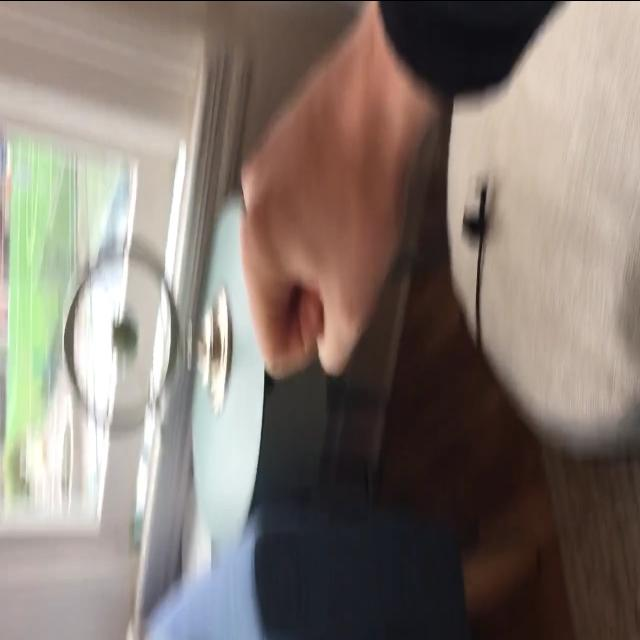Rock: (237, 38, 419, 386)
